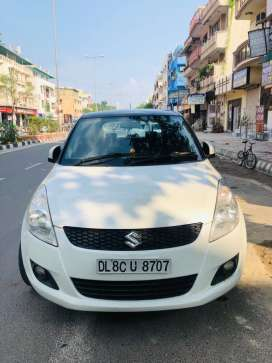license_plate: (95, 260, 172, 273)
